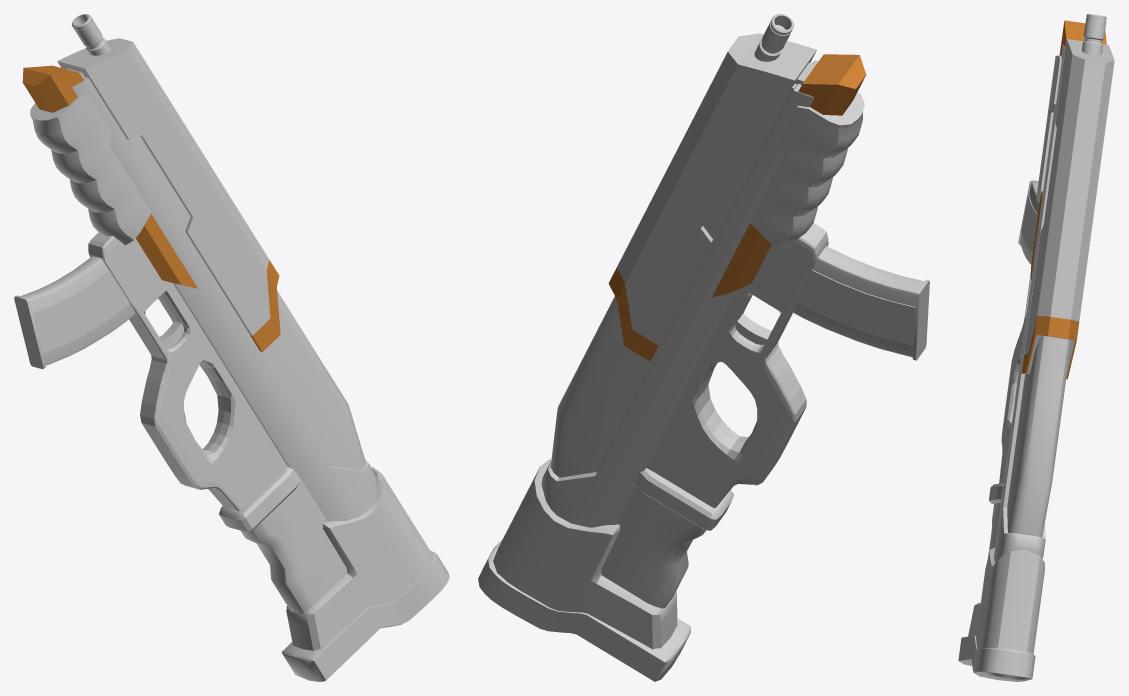
3 renders of one model, left to right at view 1: azimuth 30°, elevation 25°; view 2: azimuth 150°, elevation 25°; view 3: azimuth 270°, elevation 25°, orthographic. The views are drawn at different scales.
Parts seen in each view (by area): view 1: AR_4; view 2: AR_4; view 3: AR_4.
Part boxes in pixels (<box>): AR_4: <box>14,14,449,681</box>; AR_4: <box>478,14,929,681</box>; AR_4: <box>958,14,1114,681</box>.
Size of the model in its own units: 0.3779 by 0.5884 by 0.142.
